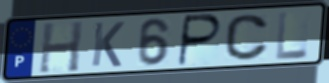6: (137, 17, 174, 68)
C: (224, 13, 271, 62)
H: (36, 19, 85, 75)
K: (89, 20, 127, 69)
L: (275, 9, 310, 62)
P: (175, 13, 224, 68)
